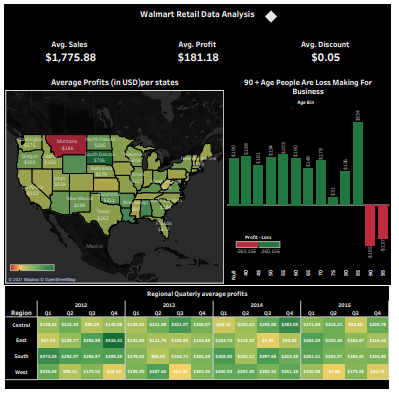

The dashboard page shown, as its layout file describes it:
{"tool":"tableau","page":{"name":"Walmart Retail Data Analysis","canvas":[1000,1000],"ordinal":0},"visuals":[{"type":"text","box":[8,8,984,48]},{"type":"worksheet","title":"Dataset Info","mark":"Shape","box":[650,9,74,60]},{"type":"blank","box":[8,56,984,32]},{"type":"worksheet","title":"Av Measures","mark":"Automatic","box":[8,88,984,94]},{"type":"worksheet","title":"State vs Profit","mark":"Multipolygon","box":[8,182,564,542]},{"type":"worksheet","title":"Age vs Profit","mark":"Automatic","rows":["Profit"],"cols":["Customer Age (bin)"],"box":[572,182,419.9,542]},{"type":"parameter","param":"[Parameters].[Parameter 1]","box":[734,248,84,69]},{"type":"legend","title":"Age vs Profit","param":"[federated.1xi4o3r0fuxf3c123upu01fw1f5k].[sum:Profit:qk]","box":[595,590,120,60]},{"type":"legend","title":"State vs Profit","param":"[federated.1xi4o3r0fuxf3c123upu01fw1f5k].[avg:Profit:qk]","box":[20,668,120,28]},{"type":"worksheet","title":"Regional Profit","mark":"Square","rows":["Region"],"cols":["Order Date","Order Date"],"box":[8,724,984,268]}]}

Visuals, with their boxes in screenshot pixels (x1, y1, x2, y2), scaled from the page's 1000x1000 canvas onto the 399x394 screenshot:
text: 3 3 396 22
"Dataset Info" worksheet (Shape marks): 259 4 289 27
blank: 3 22 396 35
"Av Measures" worksheet: 3 35 396 72
"State vs Profit" worksheet (Multipolygon marks): 3 72 228 285
"Age vs Profit" worksheet: 228 72 396 285
parameter: 293 98 326 125
"Age vs Profit" legend: 237 232 285 256
"State vs Profit" legend: 8 263 56 274
"Regional Profit" worksheet (Square marks): 3 285 396 391
